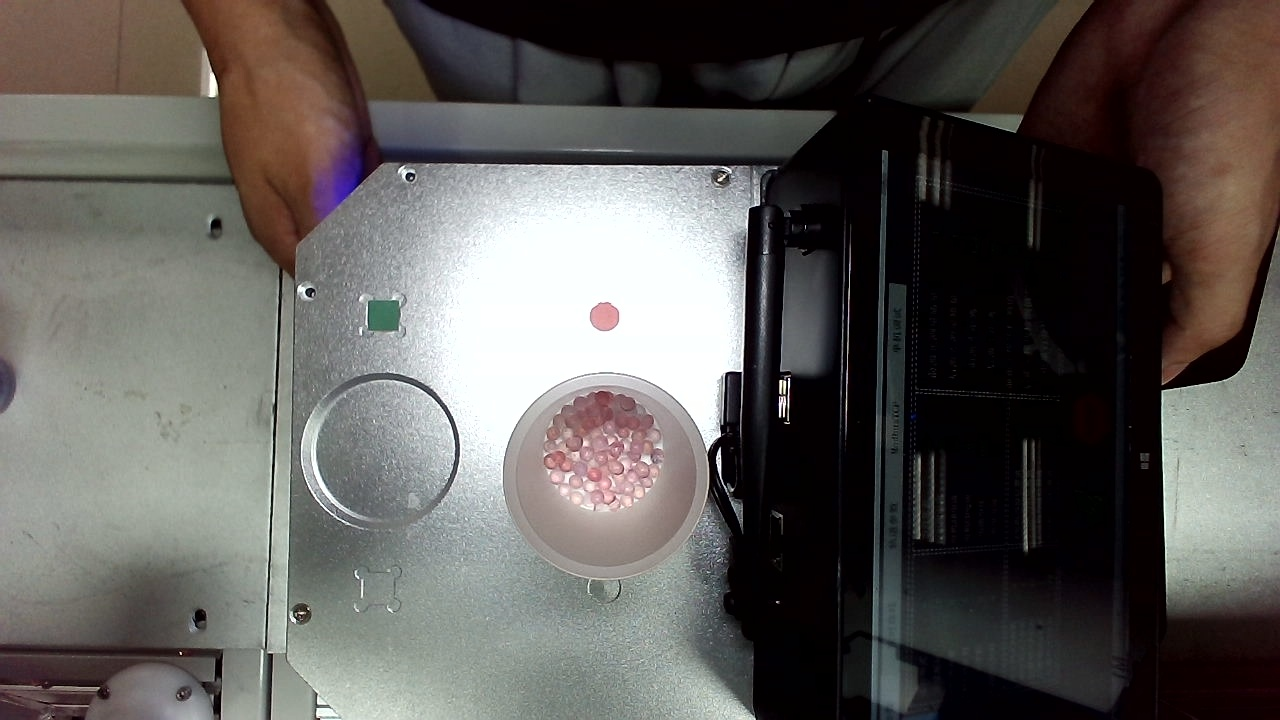bad: (770, 587, 817, 634), (254, 88, 302, 133), (282, 586, 327, 634), (745, 3, 786, 47), (258, 164, 301, 205), (705, 630, 746, 671), (679, 71, 720, 112), (285, 27, 325, 66), (397, 166, 436, 206), (827, 124, 865, 165), (540, 427, 576, 469), (817, 249, 856, 287), (358, 91, 397, 129), (821, 498, 858, 538), (393, 451, 430, 489), (843, 187, 880, 224), (852, 495, 891, 530), (843, 275, 879, 312), (837, 52, 873, 88), (852, 455, 886, 489)
defact: (705, 106, 740, 144)
pass: (587, 143, 625, 198), (465, 498, 508, 542), (628, 577, 669, 623), (369, 476, 409, 520), (330, 510, 372, 550), (576, 291, 615, 333), (744, 630, 782, 672), (688, 191, 726, 232), (449, 607, 484, 651), (851, 408, 885, 452), (630, 243, 668, 281), (532, 12, 570, 50), (385, 399, 424, 436), (761, 218, 799, 255), (686, 597, 722, 635), (803, 44, 837, 84), (670, 635, 706, 672), (626, 97, 664, 132), (582, 2, 616, 40)
toolong: (813, 391, 854, 462), (287, 139, 331, 201), (655, 548, 695, 616)
unpass: (267, 428, 313, 473), (827, 215, 875, 257), (471, 564, 509, 614), (839, 1, 875, 53), (283, 296, 327, 337), (294, 71, 337, 110), (557, 537, 596, 577), (774, 26, 810, 69), (354, 303, 393, 342), (476, 26, 514, 66), (823, 564, 863, 601), (797, 85, 834, 124), (836, 530, 873, 569), (323, 34, 360, 72), (272, 202, 311, 238), (543, 42, 578, 81), (832, 159, 867, 193), (766, 549, 800, 583), (620, 1, 652, 25)
